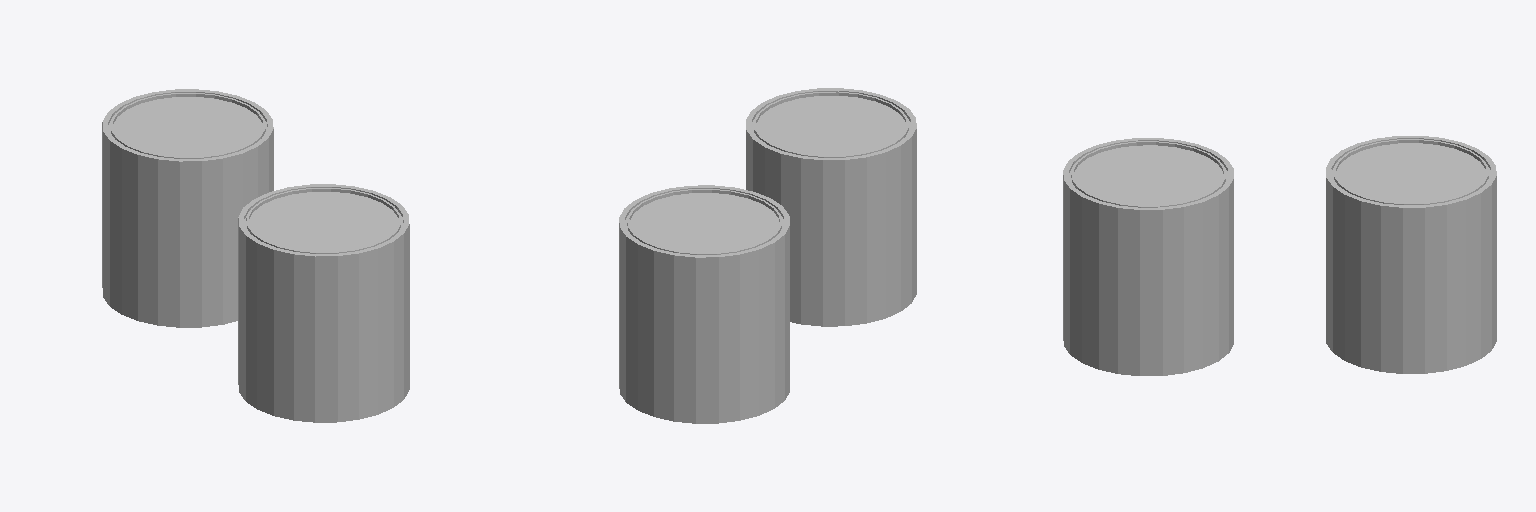
Rendered from paint farrow & ball.obj.
3 renders of one model, left to right at view 1: azimuth 30°, elevation 25°; view 2: azimuth 150°, elevation 25°; view 3: azimuth 270°, elevation 25°, orthographic.
Visible parts, largest first — view 1: paint_farrow___ball:Layer0_001; view 2: paint_farrow___ball:Layer0_001; view 3: paint_farrow___ball:Layer0_001.
Boxes of the visible parts, box(x1,y1,x2,y2) form: paint_farrow___ball:Layer0_001: box(102, 89, 409, 422); paint_farrow___ball:Layer0_001: box(619, 88, 916, 423); paint_farrow___ball:Layer0_001: box(1063, 136, 1496, 375).
Size of the model in its own units: 3.91 by 4.06 by 9.6.